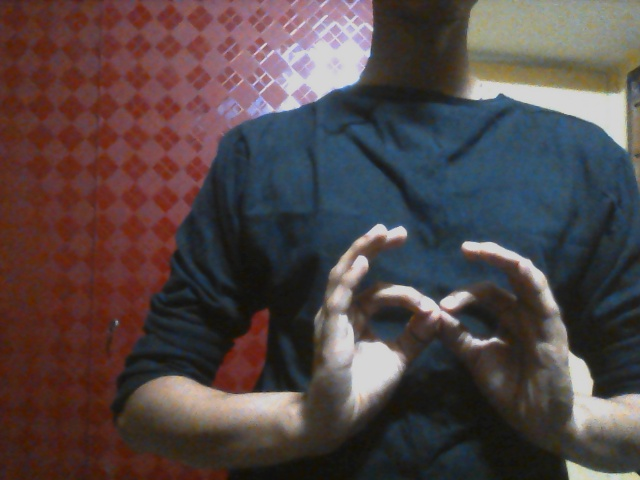B: (305, 222, 576, 479)
